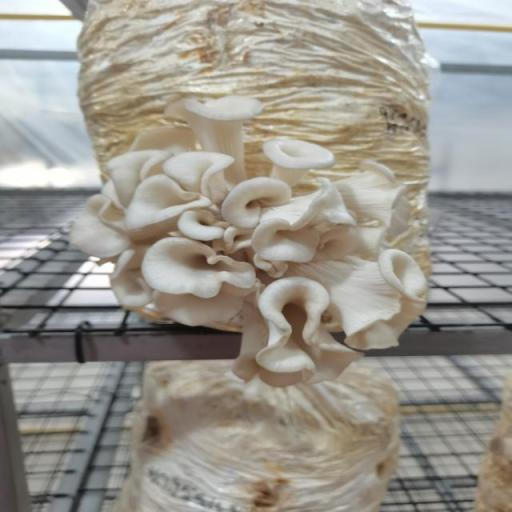White Oyster Mushroom: (58, 93, 449, 389)
